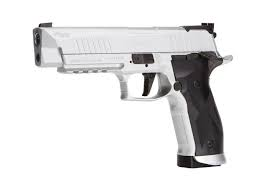gun: (32, 20, 230, 170)
